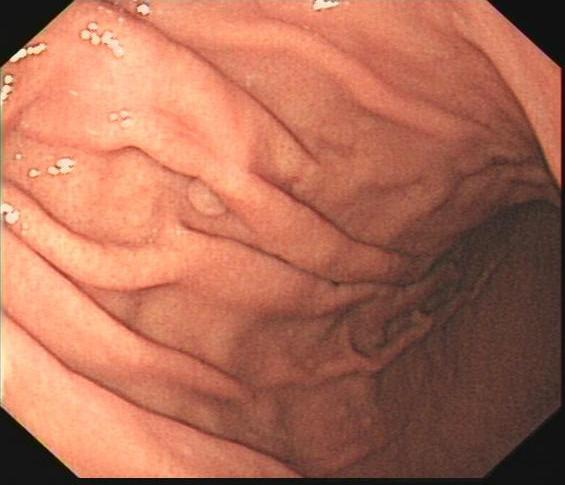Polyp: (170, 172, 239, 226)
